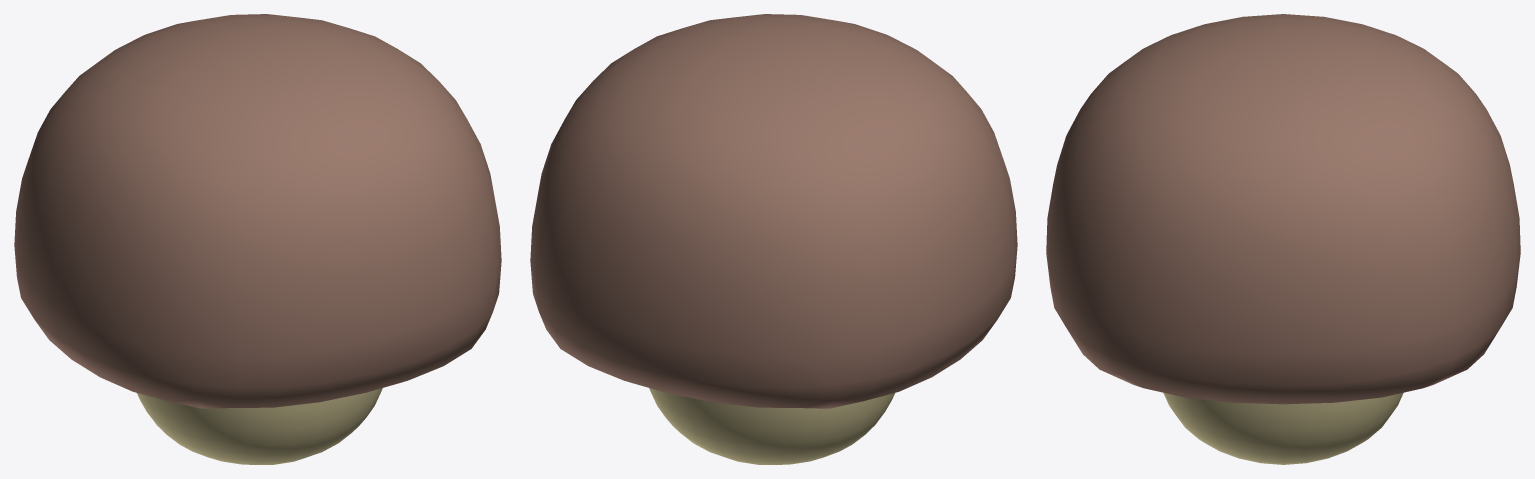
File: Bumperpilze.fbx
3 renders of one model, left to right at view 1: azimuth 30°, elevation 25°; view 2: azimuth 150°, elevation 25°; view 3: azimuth 270°, elevation 25°, orthographic.
Parts seen in each view (by area): view 1: bumpo, stiel; view 2: bumpo, stiel; view 3: bumpo, stiel.
Part boxes in pixels (bbox=[...]): bumpo: bbox=[14, 14, 501, 408]; stiel: bbox=[137, 388, 382, 464]; bumpo: bbox=[530, 14, 1017, 408]; stiel: bbox=[649, 388, 894, 464]; bumpo: bbox=[1046, 14, 1520, 404]; stiel: bbox=[1163, 392, 1403, 464].
Bounding box in the file's own units: 1.82 × 1.7 × 1.82.
